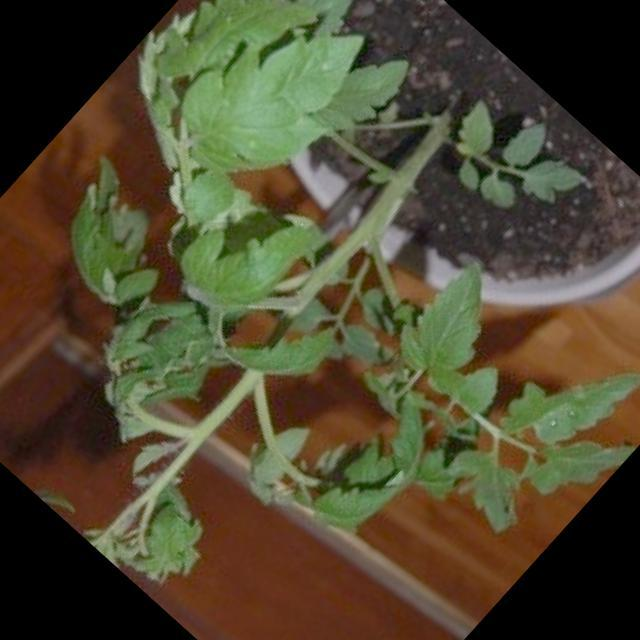Tomato healthy leaf: (153, 0, 390, 214), (384, 254, 522, 396)
